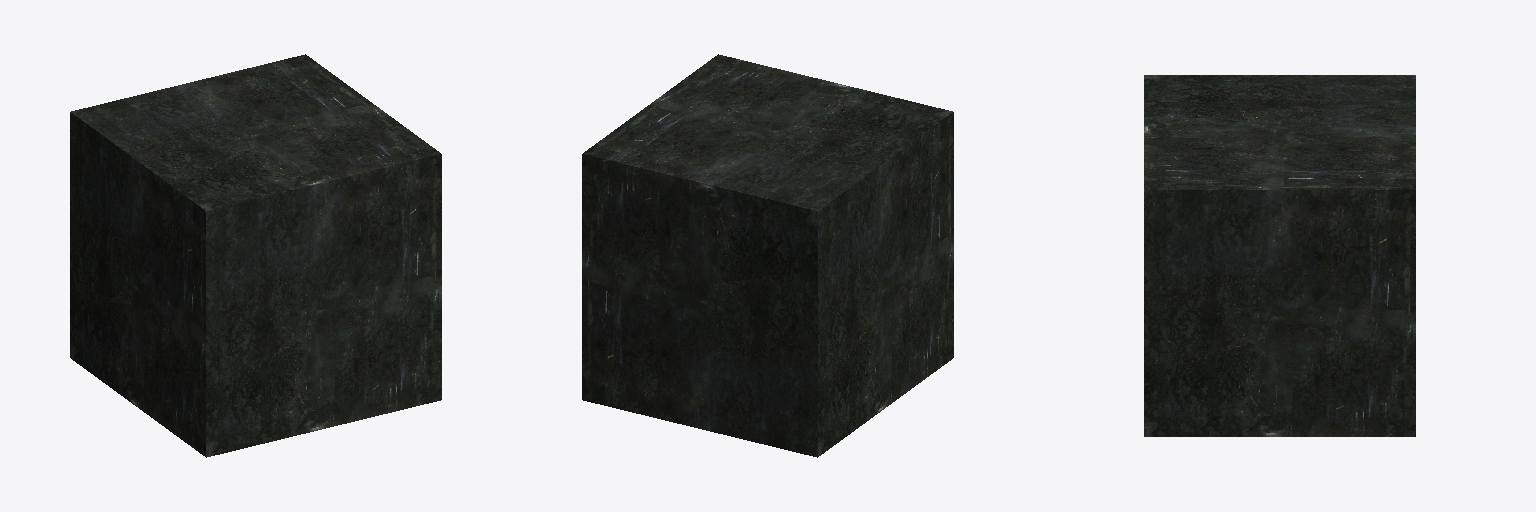
The picture shows the model from 3 angles: view 1: azimuth 30°, elevation 25°; view 2: azimuth 150°, elevation 25°; view 3: azimuth 270°, elevation 25°; orthographic projection.
Visible parts, largest first — view 1: FallGround_01; view 2: FallGround_01; view 3: FallGround_01.
Part boxes in pixels (bbox=[...]): FallGround_01: bbox=[70, 54, 441, 457]; FallGround_01: bbox=[582, 54, 953, 457]; FallGround_01: bbox=[1144, 75, 1415, 436].
Size of the model in its own units: 2 by 2 by 2.
1 materials, 1 textured.